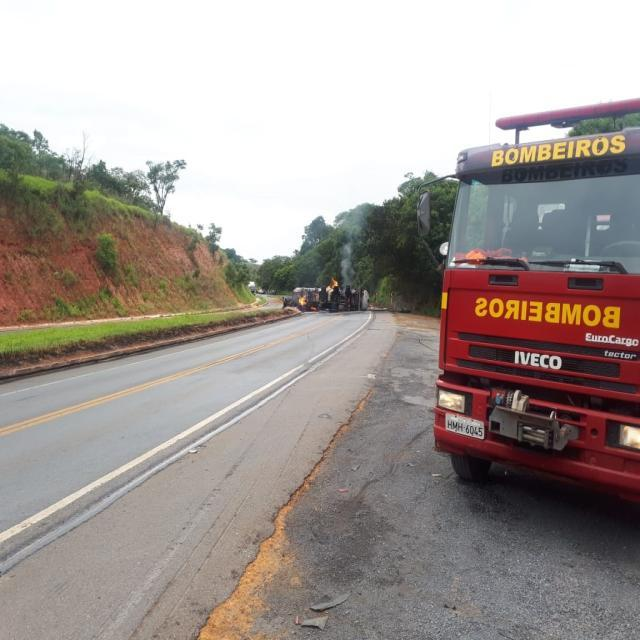Fire: (297, 293, 308, 306), (332, 276, 338, 288)
Smoke: (334, 200, 369, 286)
